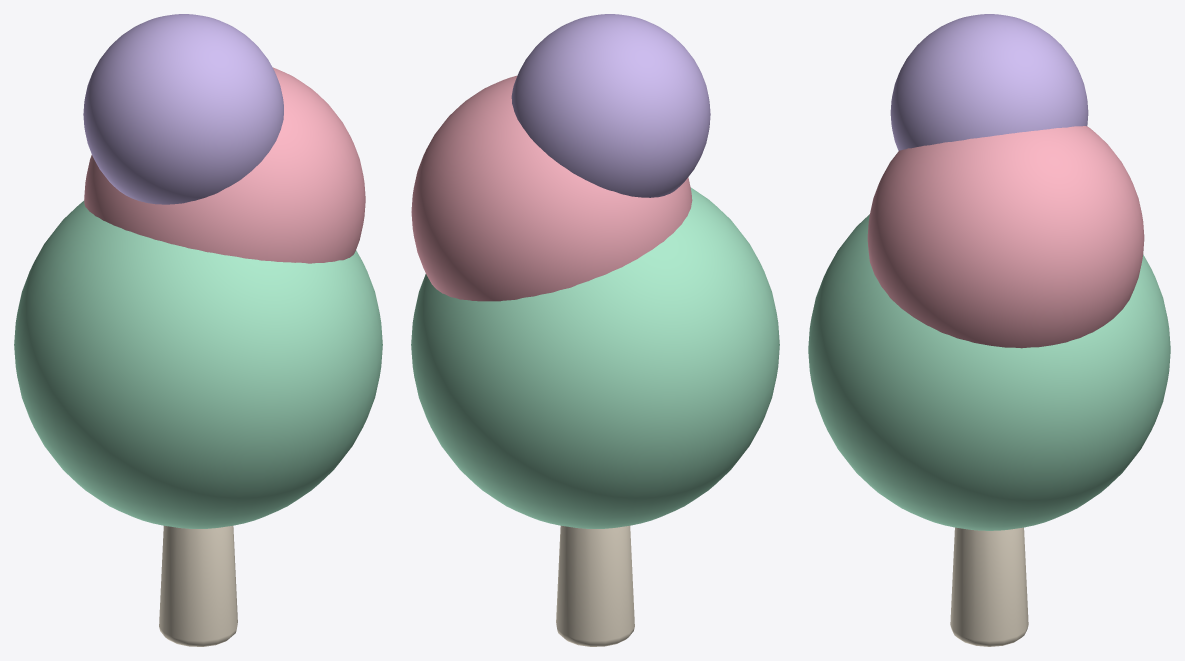
File: tree.glb
3 views of the same model, side by side, from view 1: azimuth 30°, elevation 25°; view 2: azimuth 150°, elevation 25°; view 3: azimuth 270°, elevation 25° (orthographic).
Visible parts, largest first — view 1: tree; view 2: tree; view 3: tree.
Part boxes in pixels (x1,y1,x2,y2): tree: [14, 14, 382, 646]; tree: [411, 14, 779, 646]; tree: [808, 14, 1170, 646].
Bounding box in the file's own units: 1.1 × 2.02 × 1.1.
